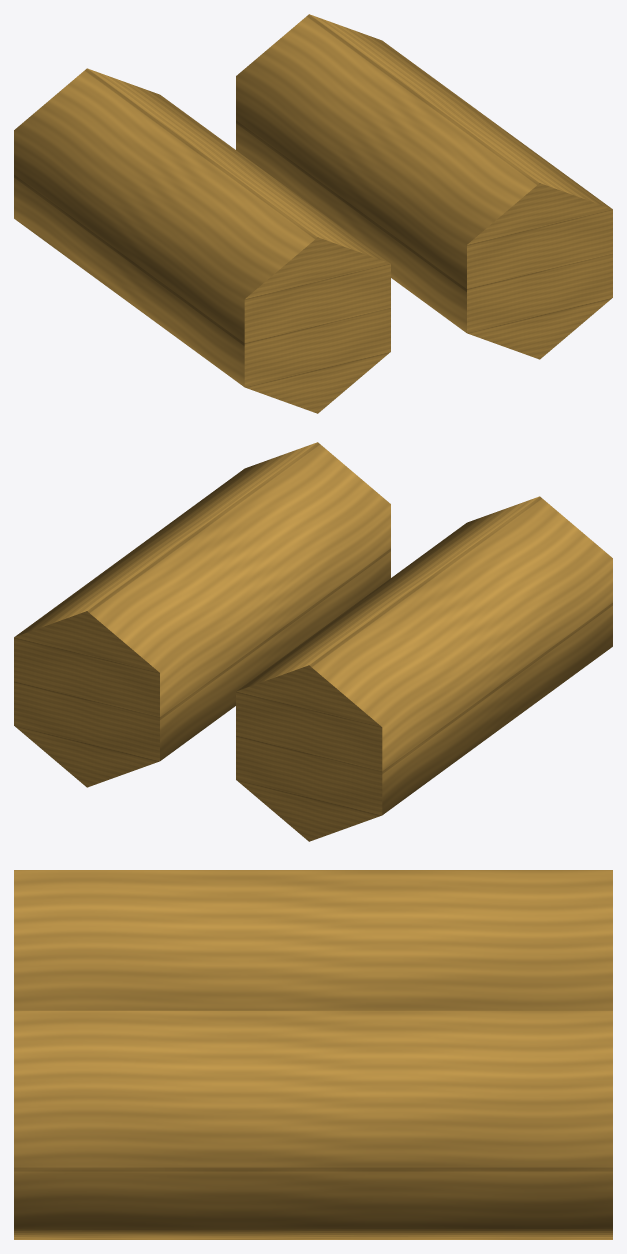
File: pickup.glb
3 views of the same model, one above another, from view 1: azimuth 30°, elevation 25°; view 2: azimuth 150°, elevation 25°; view 3: azimuth 270°, elevation 25° (orthographic). The views are drawn at different scales.
Size of the model in its own units: 0.8291 by 0.38 by 0.9.
2 materials, 2 textured.
